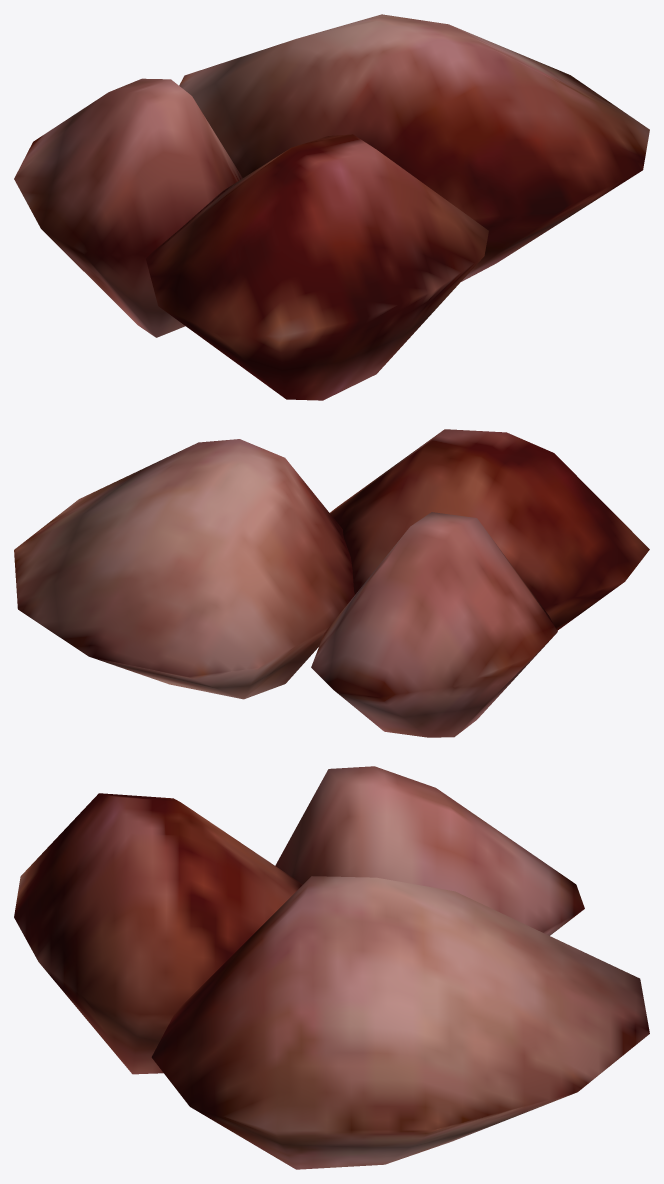
Rendered from brain_chunk_03.dae.
3 views of the same model, one above another, from view 1: azimuth 30°, elevation 25°; view 2: azimuth 150°, elevation 25°; view 3: azimuth 270°, elevation 25° (orthographic). The views are drawn at different scales.
Visible parts, largest first — view 1: chunk_03; view 2: chunk_03; view 3: chunk_03.
Boxes of the visible parts, x1,y1,x2,y2 form: chunk_03: [14, 14, 649, 400]; chunk_03: [14, 429, 649, 737]; chunk_03: [14, 766, 649, 1169].
Size of the model in its own units: 0.117 by 0.0513 by 0.1085.
